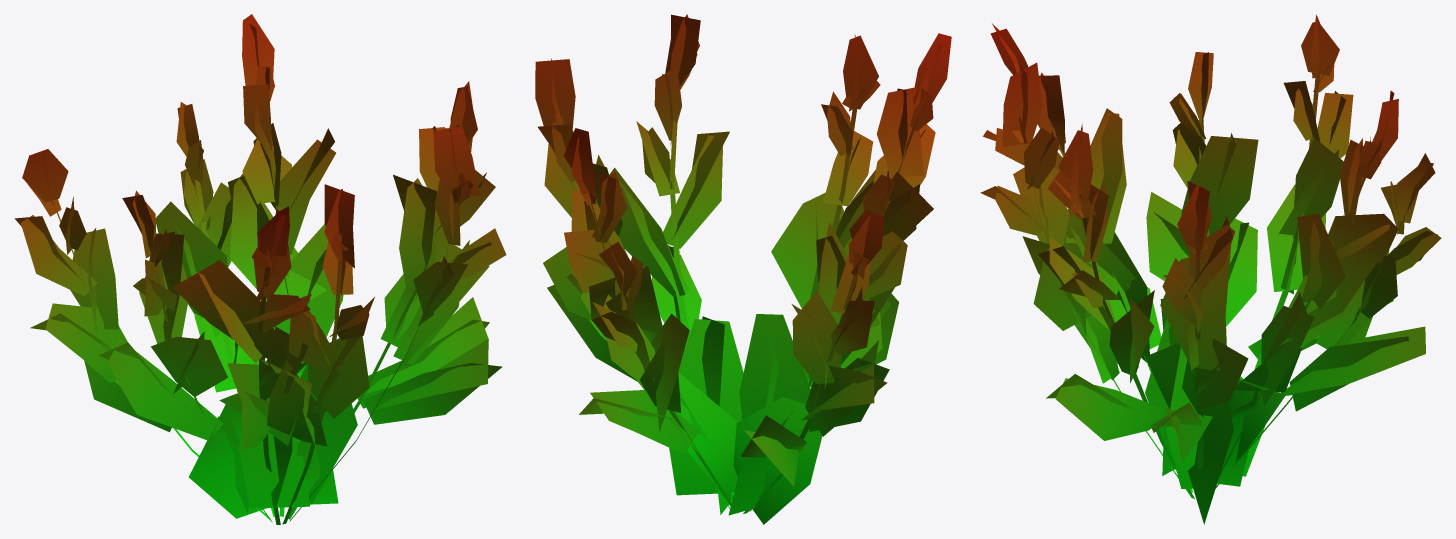
File: Chamomile_LOD3_Var9.fbx
3 renders of one model, left to right at view 1: azimuth 30°, elevation 25°; view 2: azimuth 150°, elevation 25°; view 3: azimuth 270°, elevation 25°, orthographic. The views are drawn at different scales.
Parts seen in each view (by area): view 1: _bt7d_Var9_LOD3; view 2: _bt7d_Var9_LOD3; view 3: _bt7d_Var9_LOD3.
Part boxes in pixels (left/top/right/bottom): _bt7d_Var9_LOD3: left=14, top=14, right=506, bottom=524; _bt7d_Var9_LOD3: left=535, top=14, right=951, bottom=524; _bt7d_Var9_LOD3: left=980, top=14, right=1441, bottom=524.
Bounding box in the file's own units: 20.77 × 21.16 × 20.32.
